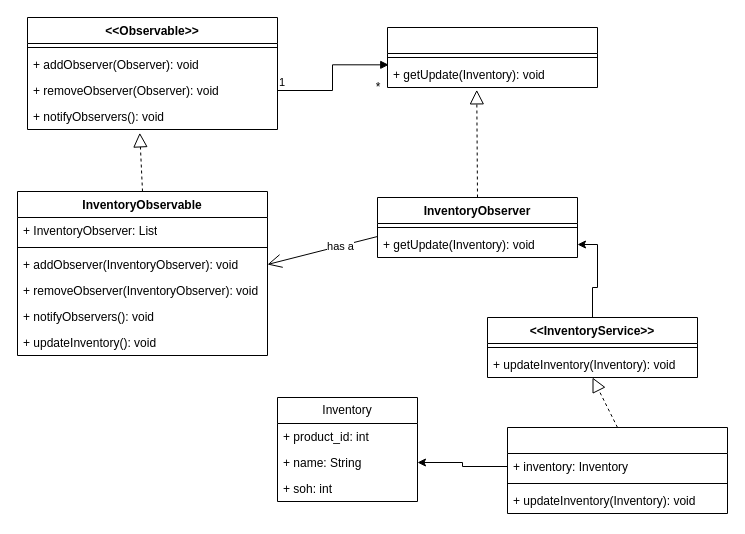
This 745x534 diagram has some shape labels left out. The box of each missing label's shape, as (x1, y1, x2, y2) in pixels:
<<Observer>>: (386, 26, 598, 88)
InventoryService: (506, 426, 728, 514)
